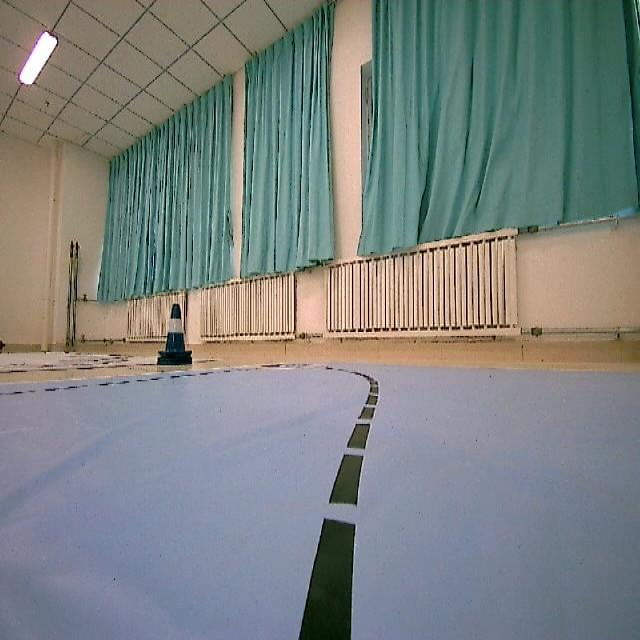obstacle: (147, 299, 197, 373)
